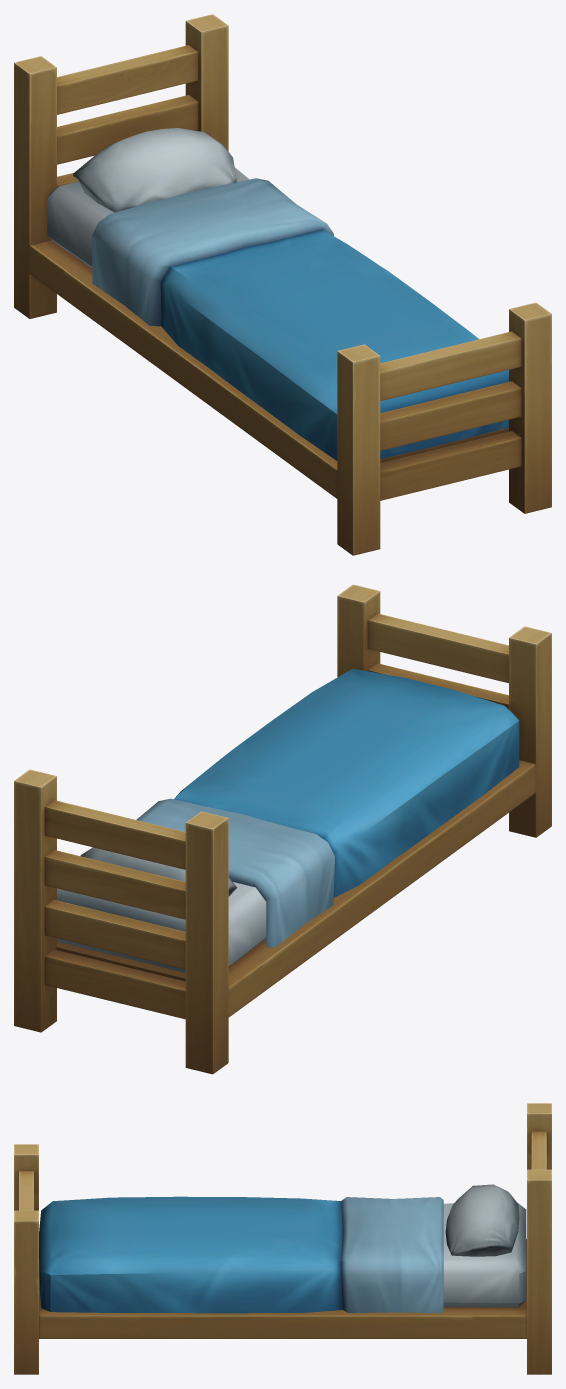
The model's file is cama_textura.fbx.
3 views of the same model, one above another, from view 1: azimuth 30°, elevation 25°; view 2: azimuth 150°, elevation 25°; view 3: azimuth 270°, elevation 25° (orthographic). The views are drawn at different scales.
Visible parts, largest first — view 1: s4studio_mesh_0, s4studio_mesh_1; view 2: s4studio_mesh_0, s4studio_mesh_1; view 3: s4studio_mesh_1, s4studio_mesh_0.
Part boxes in pixels (bbox=[...]): s4studio_mesh_0: bbox=[14, 14, 551, 555]; s4studio_mesh_1: bbox=[47, 128, 508, 460]; s4studio_mesh_0: bbox=[14, 584, 551, 1074]; s4studio_mesh_1: bbox=[57, 668, 519, 972]; s4studio_mesh_1: bbox=[39, 1184, 526, 1313]; s4studio_mesh_0: bbox=[14, 1103, 551, 1374].
Bounding box in the file's own units: 85 × 100 × 251.
2 materials, 2 textured.
